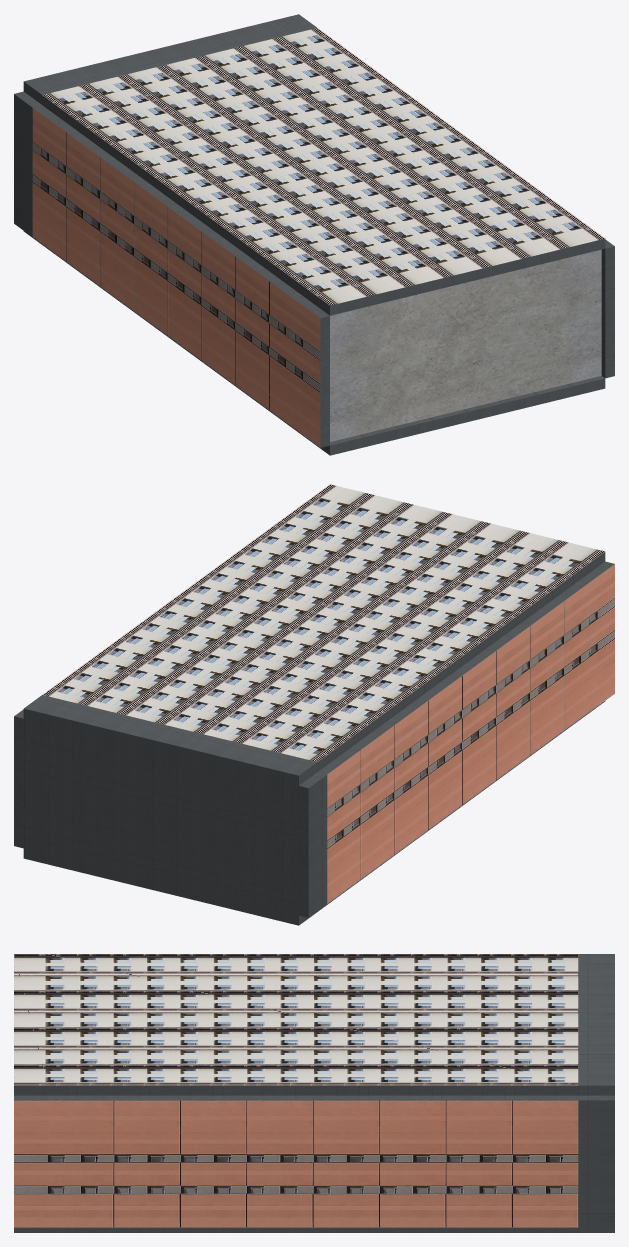
Rendered from sgy_h4.gltf.
3 views of the same model, one above another, from view 1: azimuth 30°, elevation 25°; view 2: azimuth 150°, elevation 25°; view 3: azimuth 270°, elevation 25° (orthographic).
Parts seen in each view (by area): view 1: Box013; view 2: Box013; view 3: Box013.
Boxes of the visible parts, x1,y1,x2,y2 form: Box013: [14, 14, 614, 455]; Box013: [14, 484, 614, 925]; Box013: [14, 954, 614, 1232].
Size of the model in its own units: 45.69 by 22.23 by 82.33.
4 materials, 4 textured.
